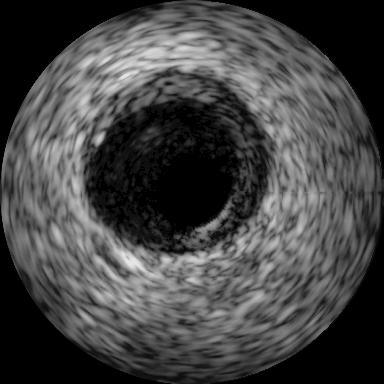Lumen: (152, 137, 234, 226)
